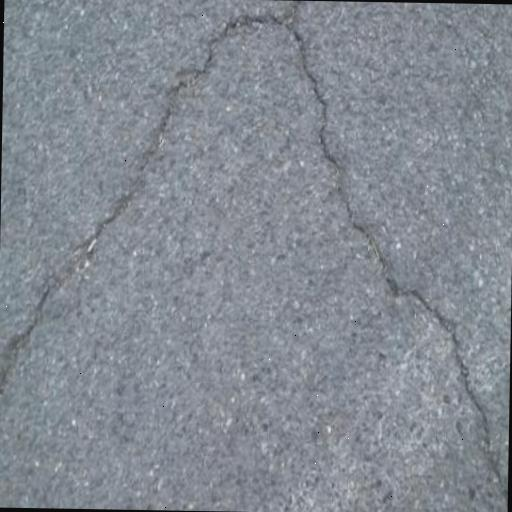spalling: (3, 4, 509, 489)
